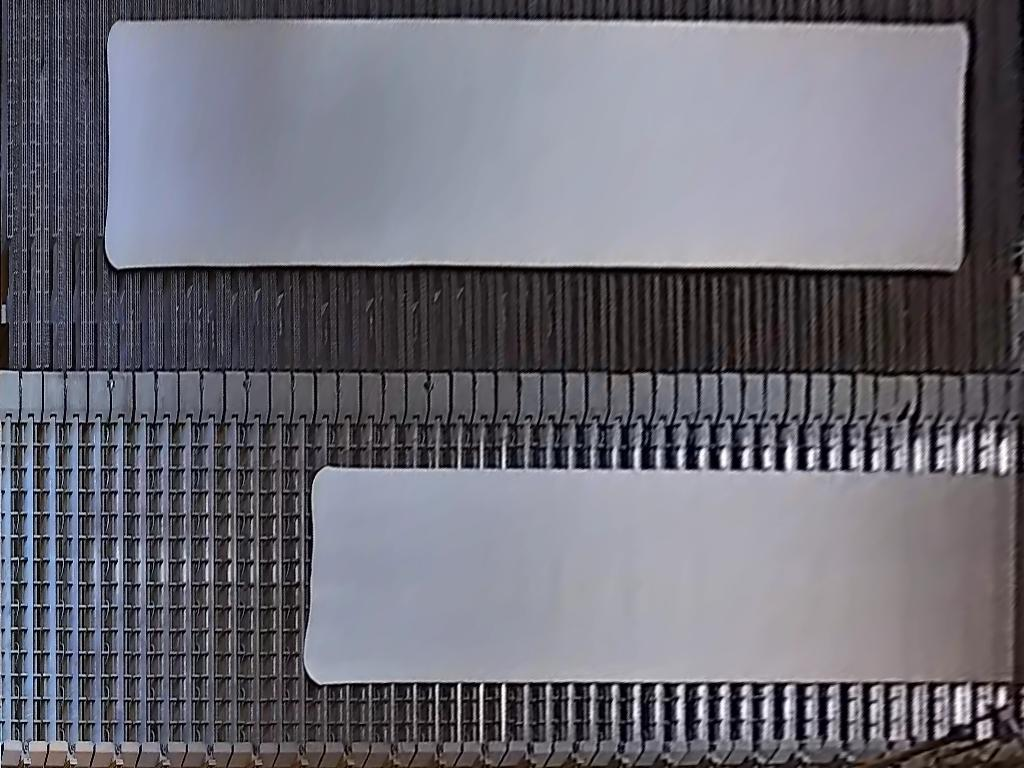steel: (104, 18, 965, 275), (301, 465, 1024, 686)
